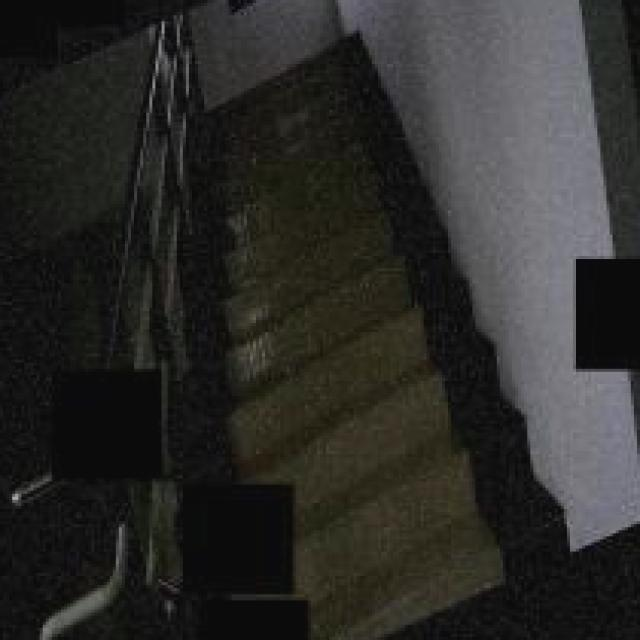upstair: (300, 291, 519, 586)
